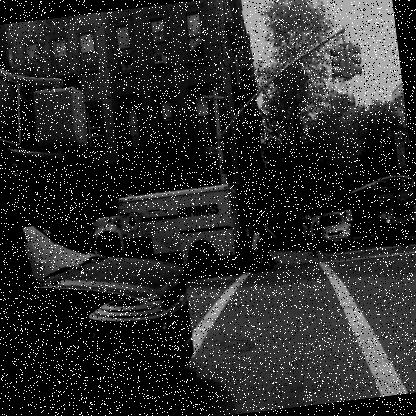Car: (1, 208, 203, 415), (296, 209, 361, 254)
